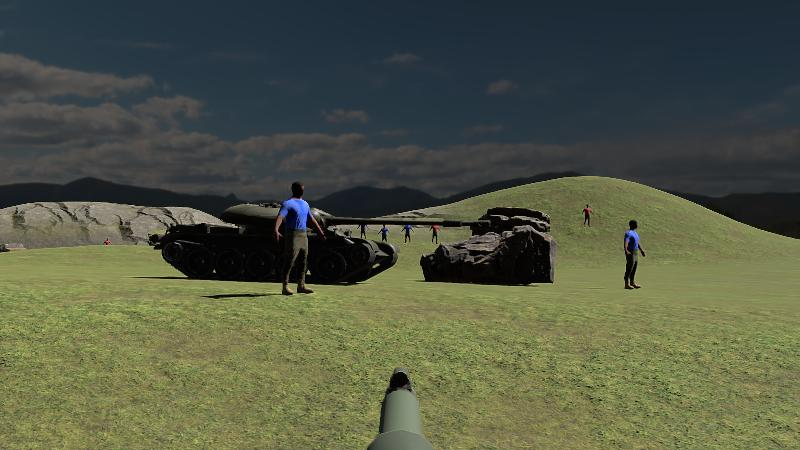Human: (274, 183, 326, 295), (624, 219, 645, 289)
Tank: (161, 200, 440, 284)
